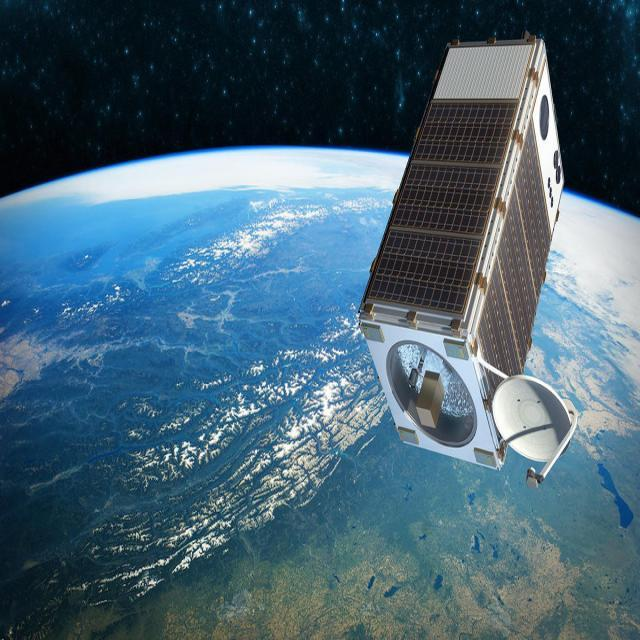sat: (347, 32, 480, 280)
